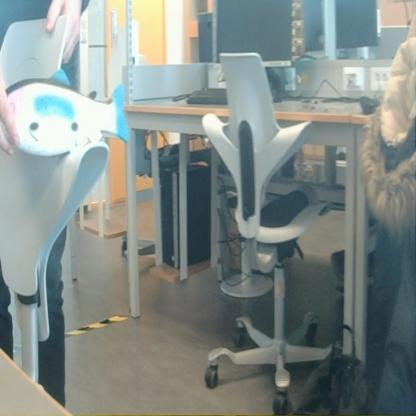rubberfish: (0, 64, 133, 162)
